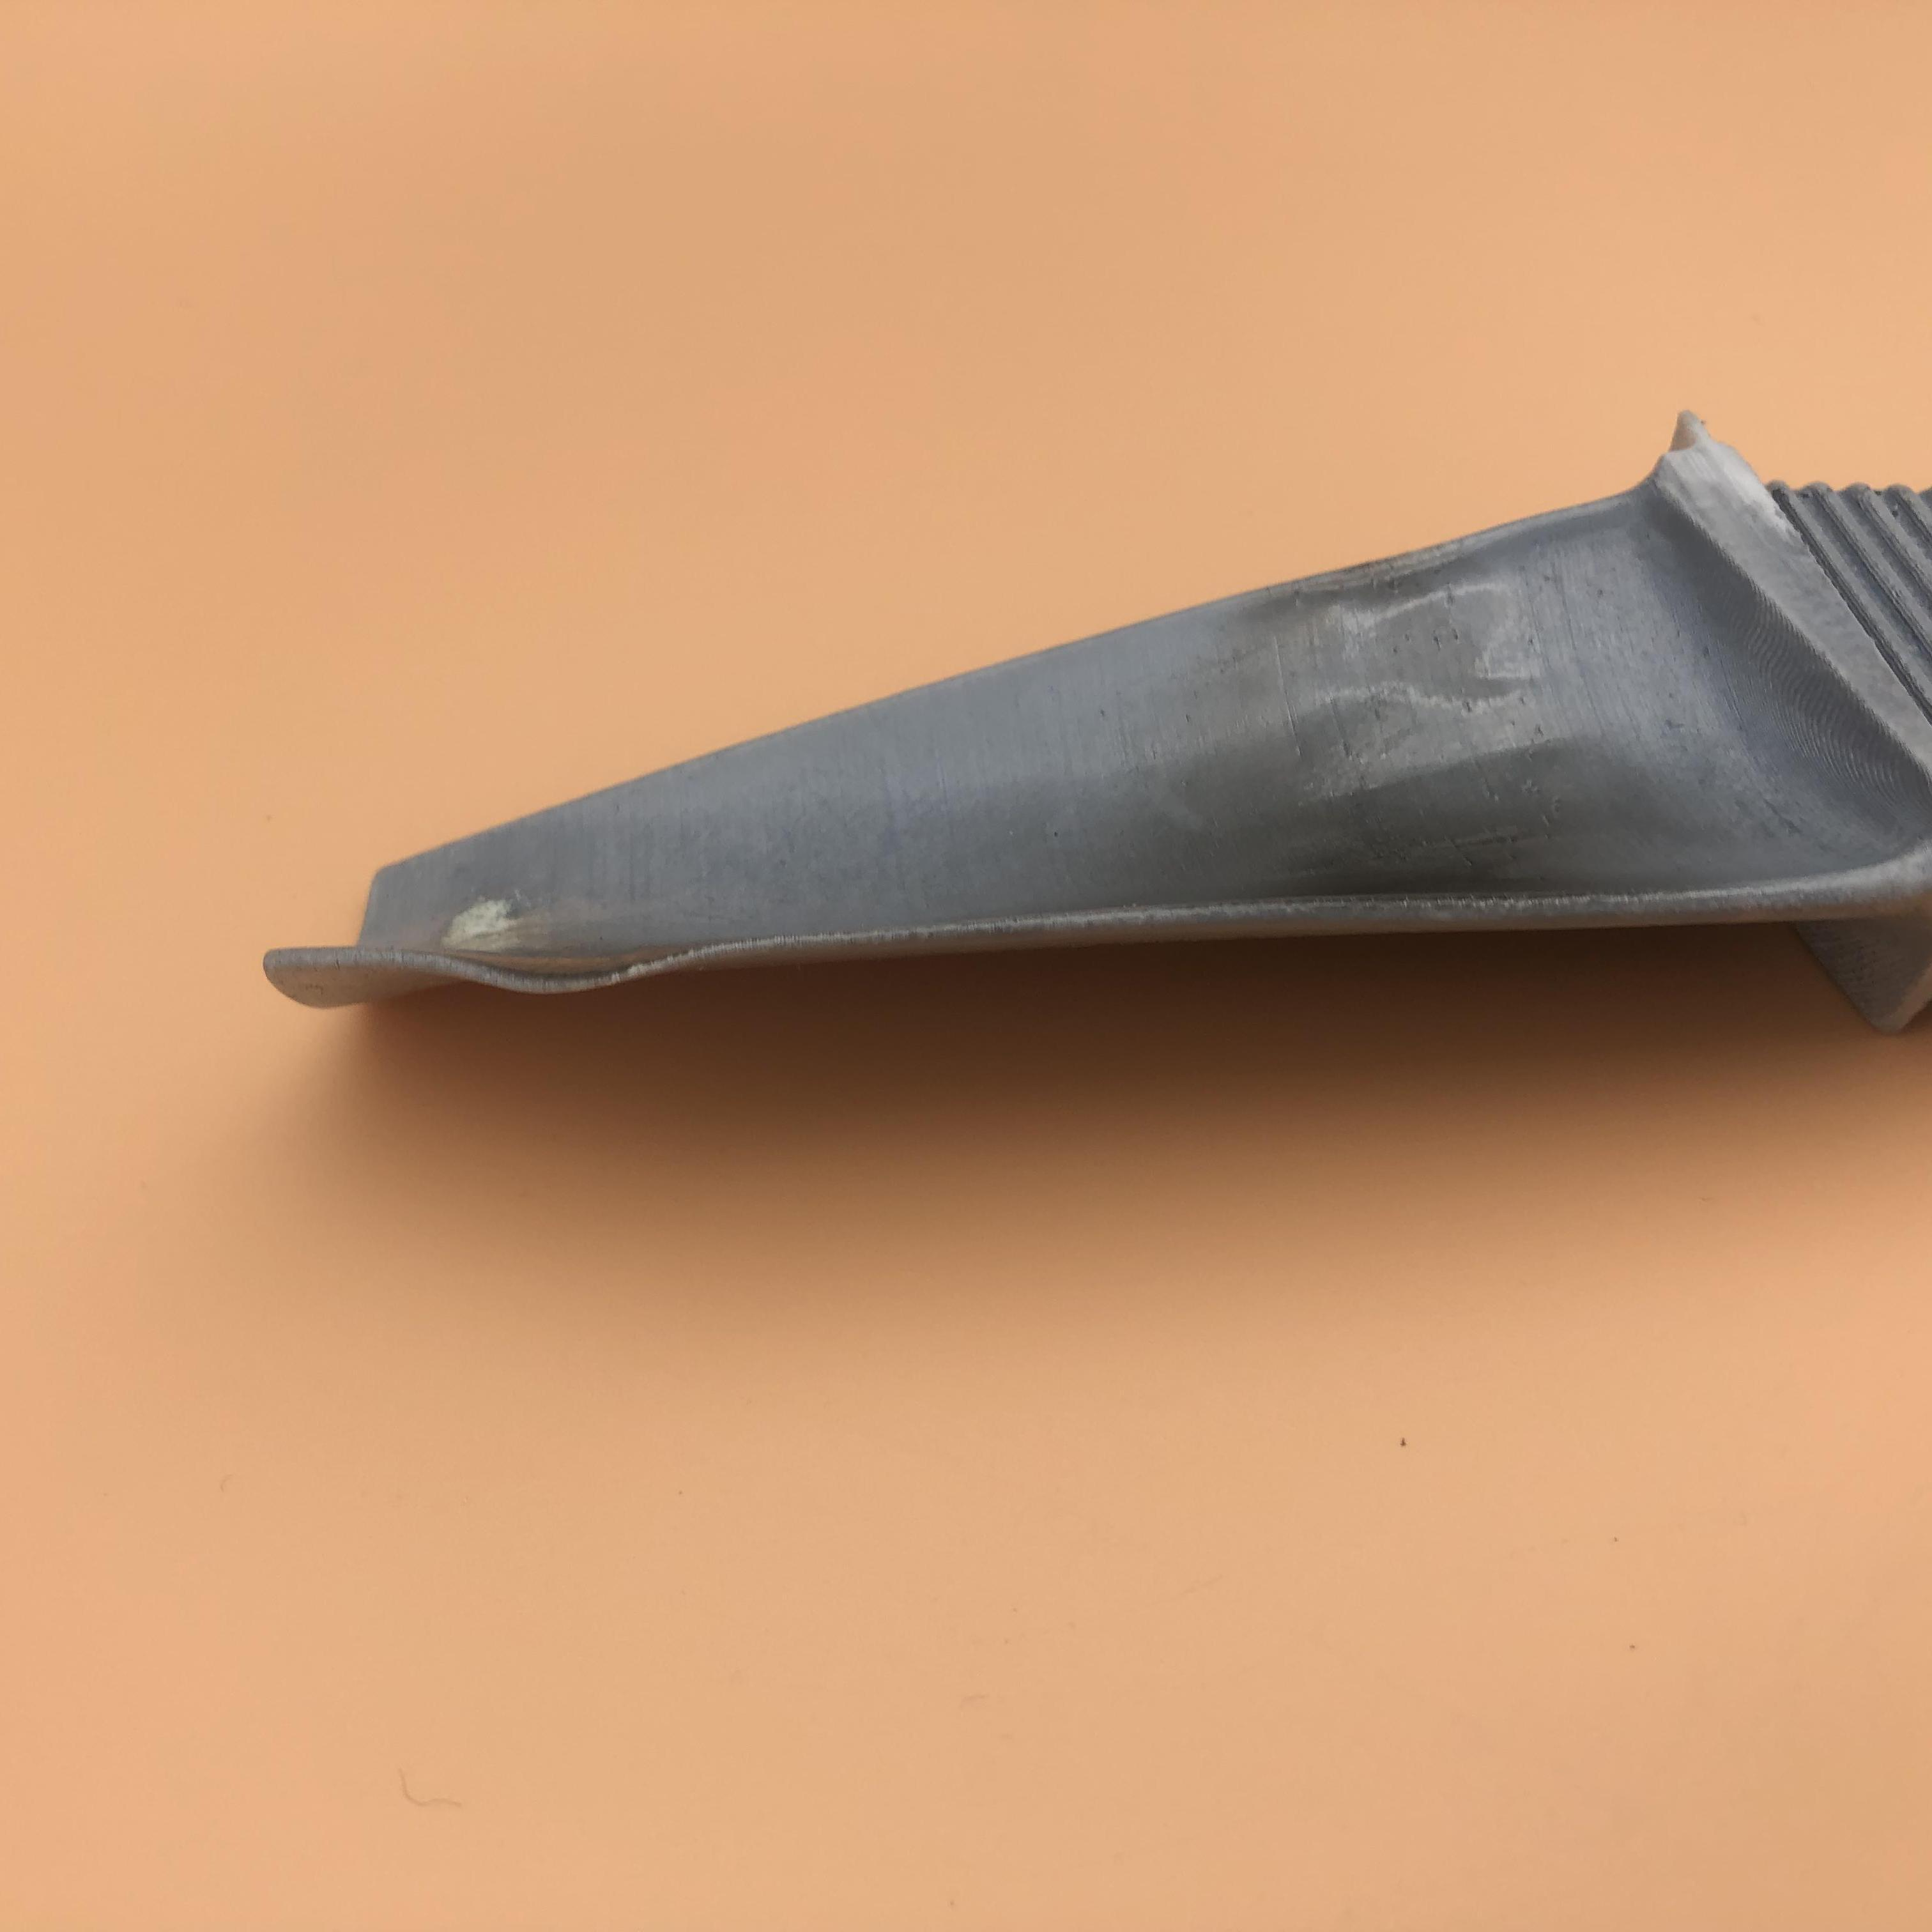ablation: (1244, 593, 1608, 911), (442, 885, 711, 982)
